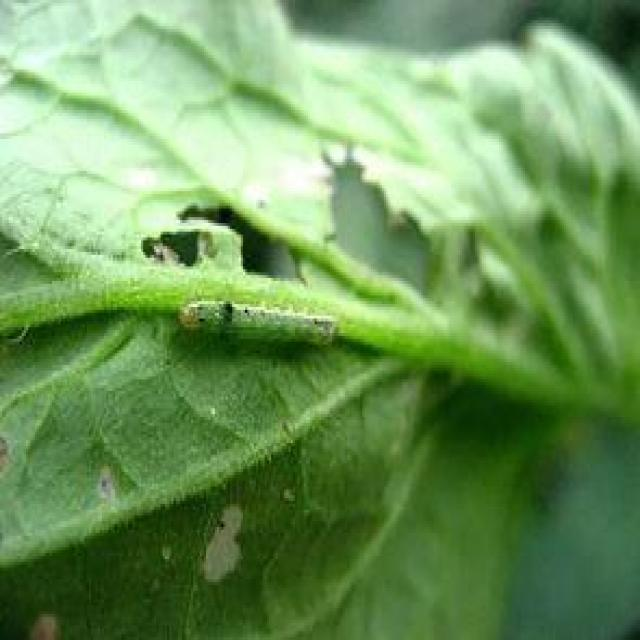BeetArmyWorm-Larva-: (167, 289, 349, 360)
